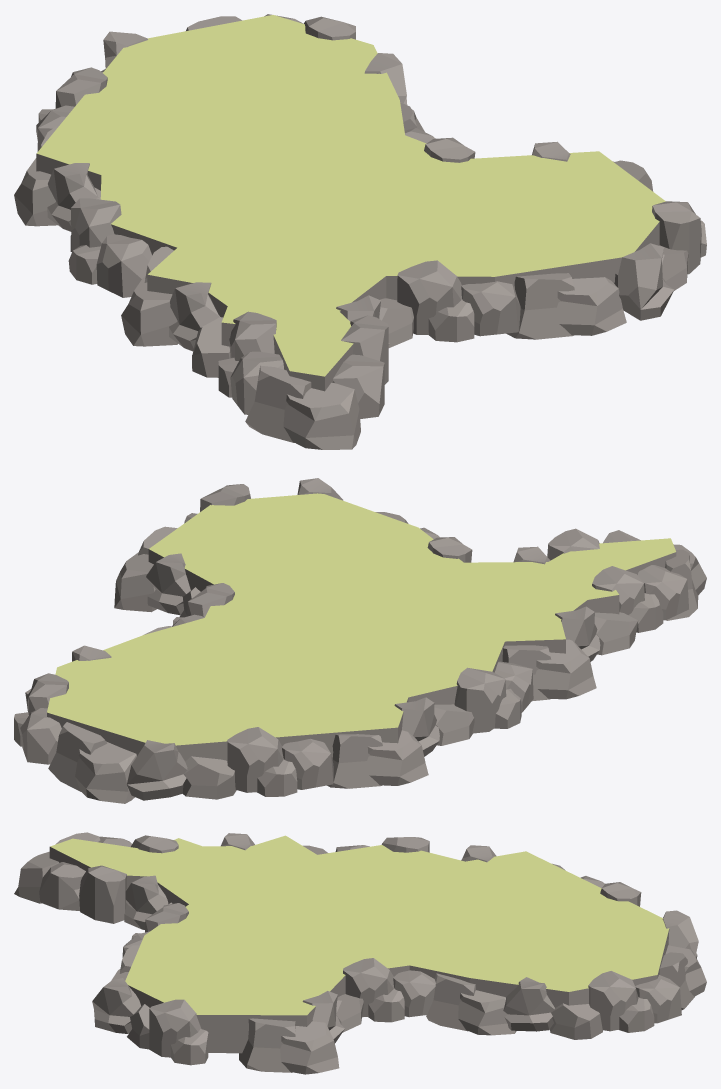
The model's file is terrain.fbx.
3 renders of one model, top to bottom at view 1: azimuth 30°, elevation 25°; view 2: azimuth 150°, elevation 25°; view 3: azimuth 270°, elevation 25°, orthographic. The views are drawn at different scales.
Visible parts, largest first — view 1: terrain; view 2: terrain; view 3: terrain.
Boxes of the visible parts, x1,y1,x2,y2 form: terrain: (14,14,706,449); terrain: (14,478,706,803); terrain: (14,832,706,1074).
Bounding box in the file's own units: 71.77 × 103 × 8.67.
